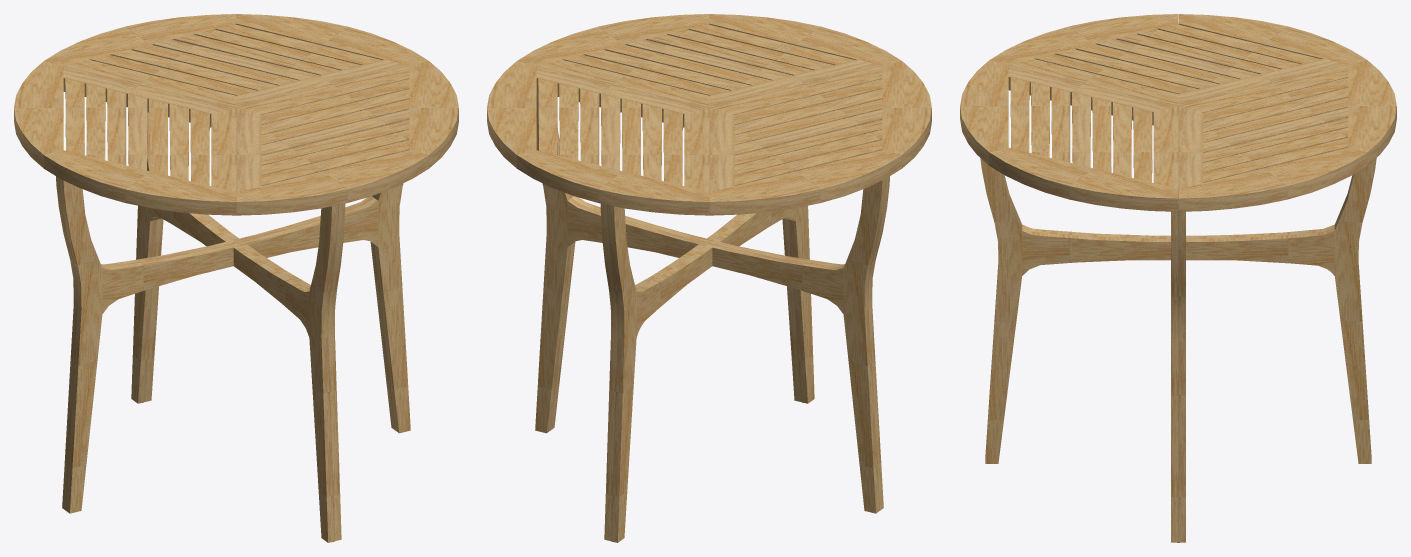
Rendered from routas-table_nocolor.fbx.
The picture shows the model from 3 angles, left to right: view 1: azimuth 30°, elevation 25°; view 2: azimuth 150°, elevation 25°; view 3: azimuth 270°, elevation 25°; orthographic projection.
Parts seen in each view (by area): view 1: routas-table; view 2: routas-table; view 3: routas-table.
Part boxes in pixels (x1,y1,x2,y2): routas-table: [14, 14, 458, 542]; routas-table: [487, 14, 931, 542]; routas-table: [960, 14, 1396, 542].
Size of the model in its own units: 80 by 72 by 80.
Materials: 3 (2 with a texture image).
